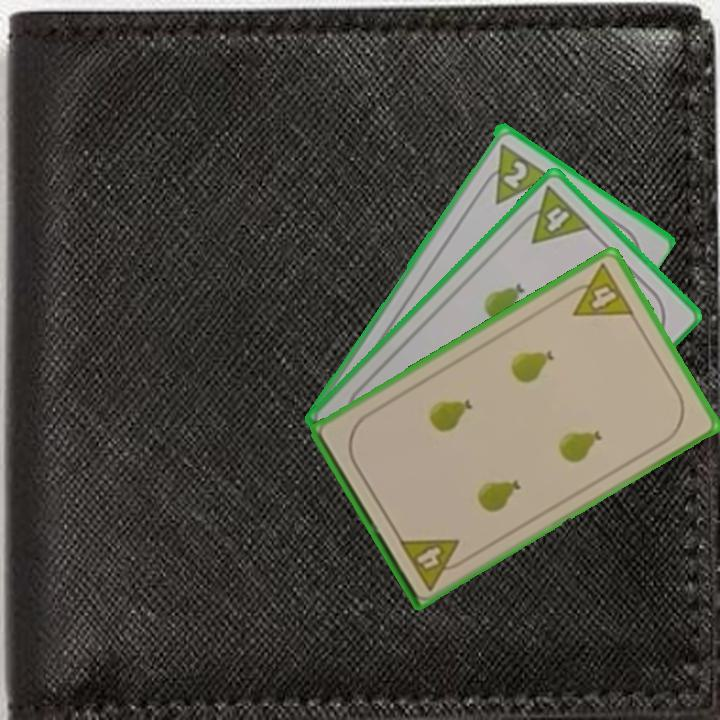2p: (475, 139, 552, 207)
4p: (513, 182, 594, 247), (559, 260, 637, 319), (395, 534, 471, 594)
